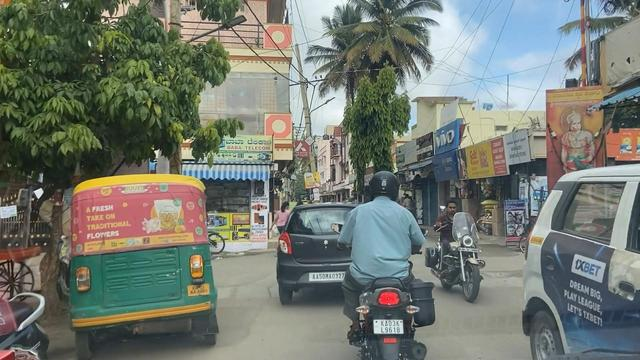LMV: (63, 178, 216, 342), (353, 174, 426, 360)
RoadDamages: (229, 278, 274, 324)
